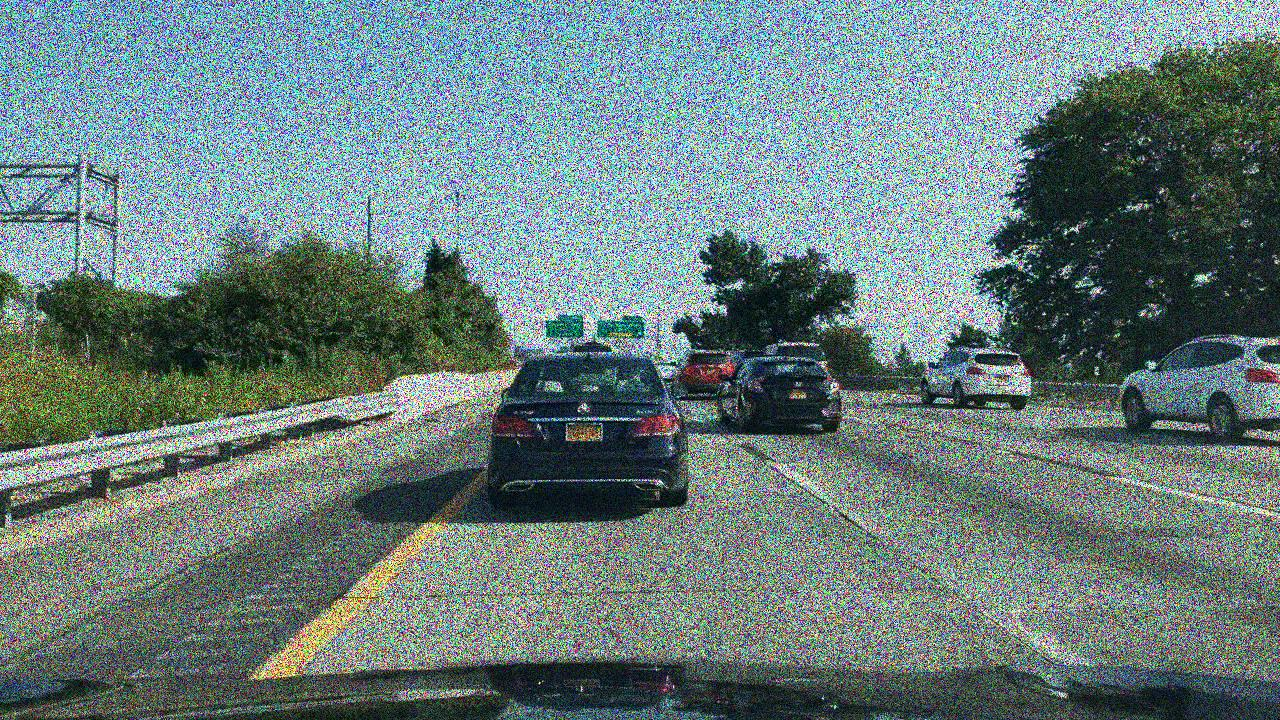car: (486, 351, 692, 511), (1122, 333, 1279, 445), (715, 355, 844, 431), (921, 345, 1032, 409), (680, 348, 736, 396), (765, 341, 830, 374), (729, 348, 764, 370), (566, 339, 617, 352), (654, 358, 679, 382)
